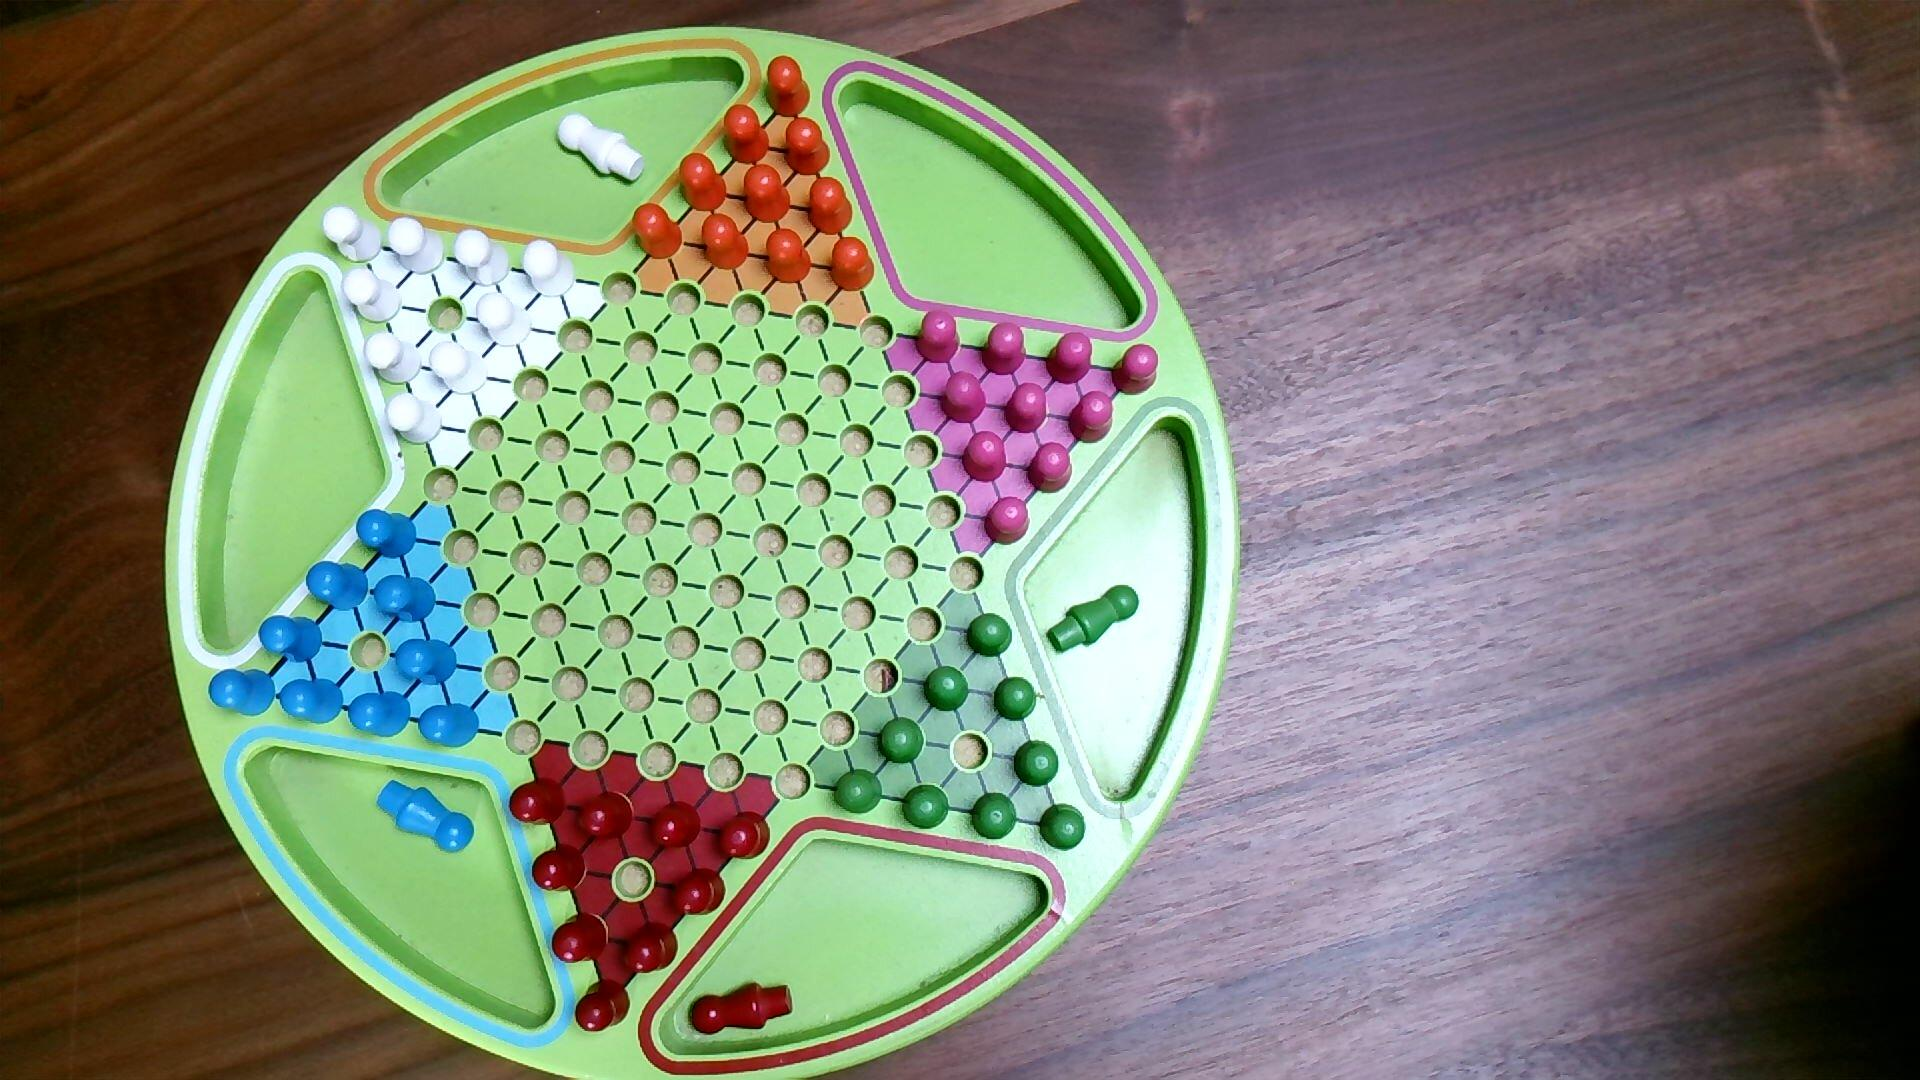B: (258, 613, 326, 667), (305, 559, 371, 613), (393, 636, 460, 688), (208, 667, 277, 719), (356, 508, 421, 562), (372, 574, 439, 625), (277, 676, 345, 727), (347, 690, 414, 740), (415, 702, 483, 752)
G: (1036, 800, 1089, 855), (831, 766, 885, 818), (969, 789, 1021, 843), (876, 713, 926, 767), (901, 781, 952, 832), (1011, 736, 1062, 789), (920, 665, 972, 715), (992, 673, 1040, 725), (965, 609, 1015, 659)
O: (698, 210, 753, 276), (630, 200, 686, 264), (720, 102, 774, 166), (764, 51, 814, 120), (676, 149, 729, 214), (741, 162, 794, 227), (782, 115, 833, 179), (804, 173, 856, 237), (762, 225, 814, 287), (827, 235, 878, 295)
R: (574, 976, 633, 1036), (618, 920, 680, 978), (551, 907, 611, 967), (575, 786, 636, 844), (713, 807, 773, 864), (644, 796, 704, 852), (670, 862, 728, 918), (508, 775, 567, 828), (531, 841, 589, 894)
R2: (911, 305, 963, 368), (978, 315, 1029, 378), (1108, 342, 1160, 398), (1025, 438, 1076, 496), (936, 367, 988, 425), (1043, 328, 1095, 386), (1065, 386, 1116, 446), (960, 429, 1010, 485), (982, 493, 1033, 549), (1001, 378, 1048, 436)
W: (425, 338, 493, 398), (320, 203, 385, 266), (451, 224, 514, 289), (385, 214, 448, 277), (340, 265, 405, 326), (475, 287, 535, 351), (520, 236, 579, 301), (363, 330, 425, 388), (382, 392, 444, 448)
